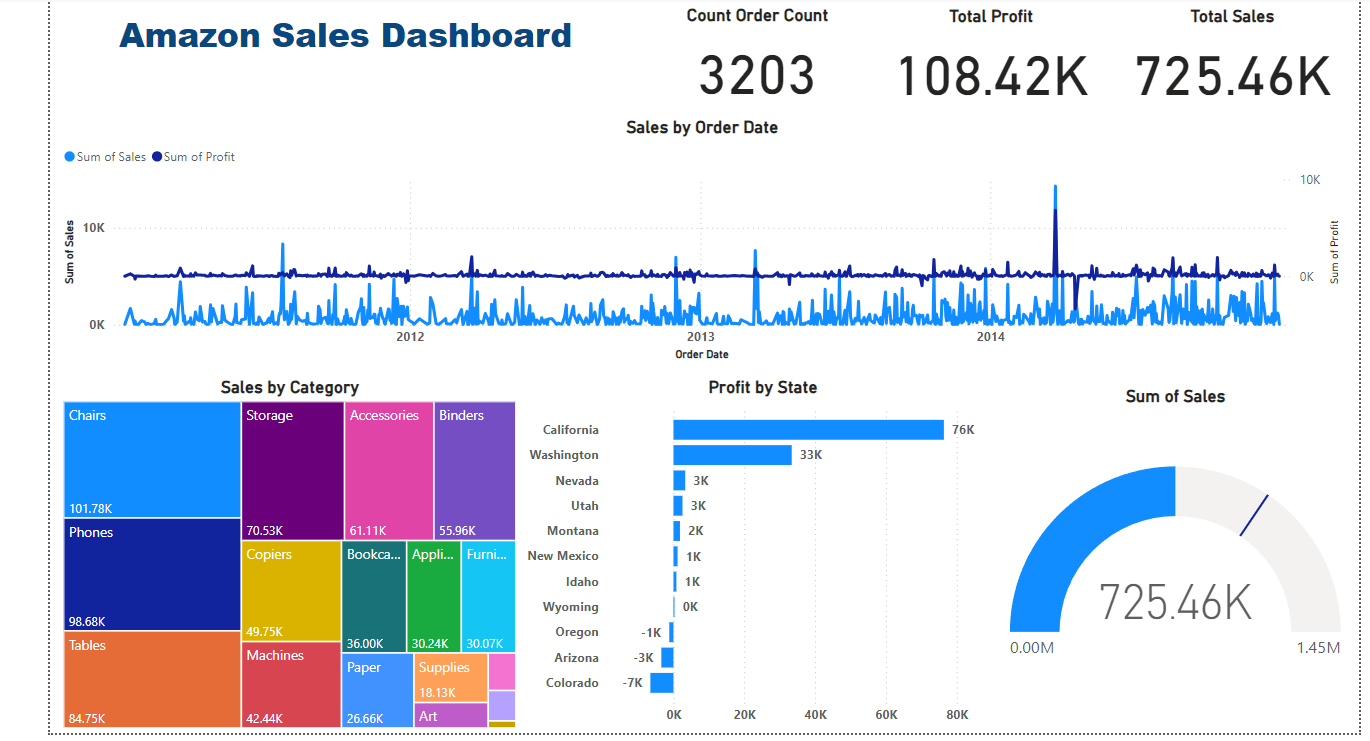

Layout of this report page (visuals, bound fields, positions):
{"tool":"powerbi","page":{"name":"Page 1","canvas":[1280,720],"ordinal":0},"visuals":[{"type":"card","title":"Total Sales","fields":{"Values":["Sum(walmart.Sales)"]},"box":[1047,9,220,108],"z":0},{"type":"card","title":"Total Profit","fields":{"Values":["Sum(walmart.Profit)"]},"box":[810.5,8.6,220,108.8],"z":1000},{"type":"card","title":"Count Order Count","fields":{"Values":["CountNonNull(walmart.Order ID)"]},"box":[581.9,7.3,220,108.8],"z":2000},{"type":"lineChart","title":"Sales by Order Date","fields":{"Y":["Sum(walmart.Sales)"],"Category":["walmart.Order Date"],"Y2":["Sum(walmart.Profit)"]},"box":[8.6,117.4,1259.1,243.3],"z":3000},{"type":"treemap","title":"Sales by Category","fields":{"Group":["walmart.Category"],"Values":["Sum(walmart.Sales)"]},"box":[8.6,371.6,452.3,348.4],"z":4000},{"type":"clusteredBarChart","title":"Profit by State","fields":{"Category":["walmart.State"],"Y":["Sum(walmart.Profit)"]},"box":[460.8,371.6,473.1,348.4],"z":5000},{"type":"gauge","fields":{"Y":["Sum(walmart.Sales)"]},"box":[933.9,380.2,333.7,332.5],"z":6000},{"type":"textbox","box":[8.6,8.6,561.1,85.6],"z":7000}]}

Visuals, with their boxes on the page's 1280x720 design canvas (x1, y1, x2, y2). These are canvas units, not pixel positions in the 1370x741 screenshot, which may show the page scaled, cropped or inside an application window:
"Total Sales" card: 1047,9,1267,117
"Total Profit" card: 810,9,1030,117
"Count Order Count" card: 582,7,802,116
"Sales by Order Date" lineChart: 9,117,1268,361
"Sales by Category" treemap: 9,372,461,720
"Profit by State" clusteredBarChart: 461,372,934,720
gauge - Sum(walmart.Sales): 934,380,1268,713
textbox: 9,9,570,94
